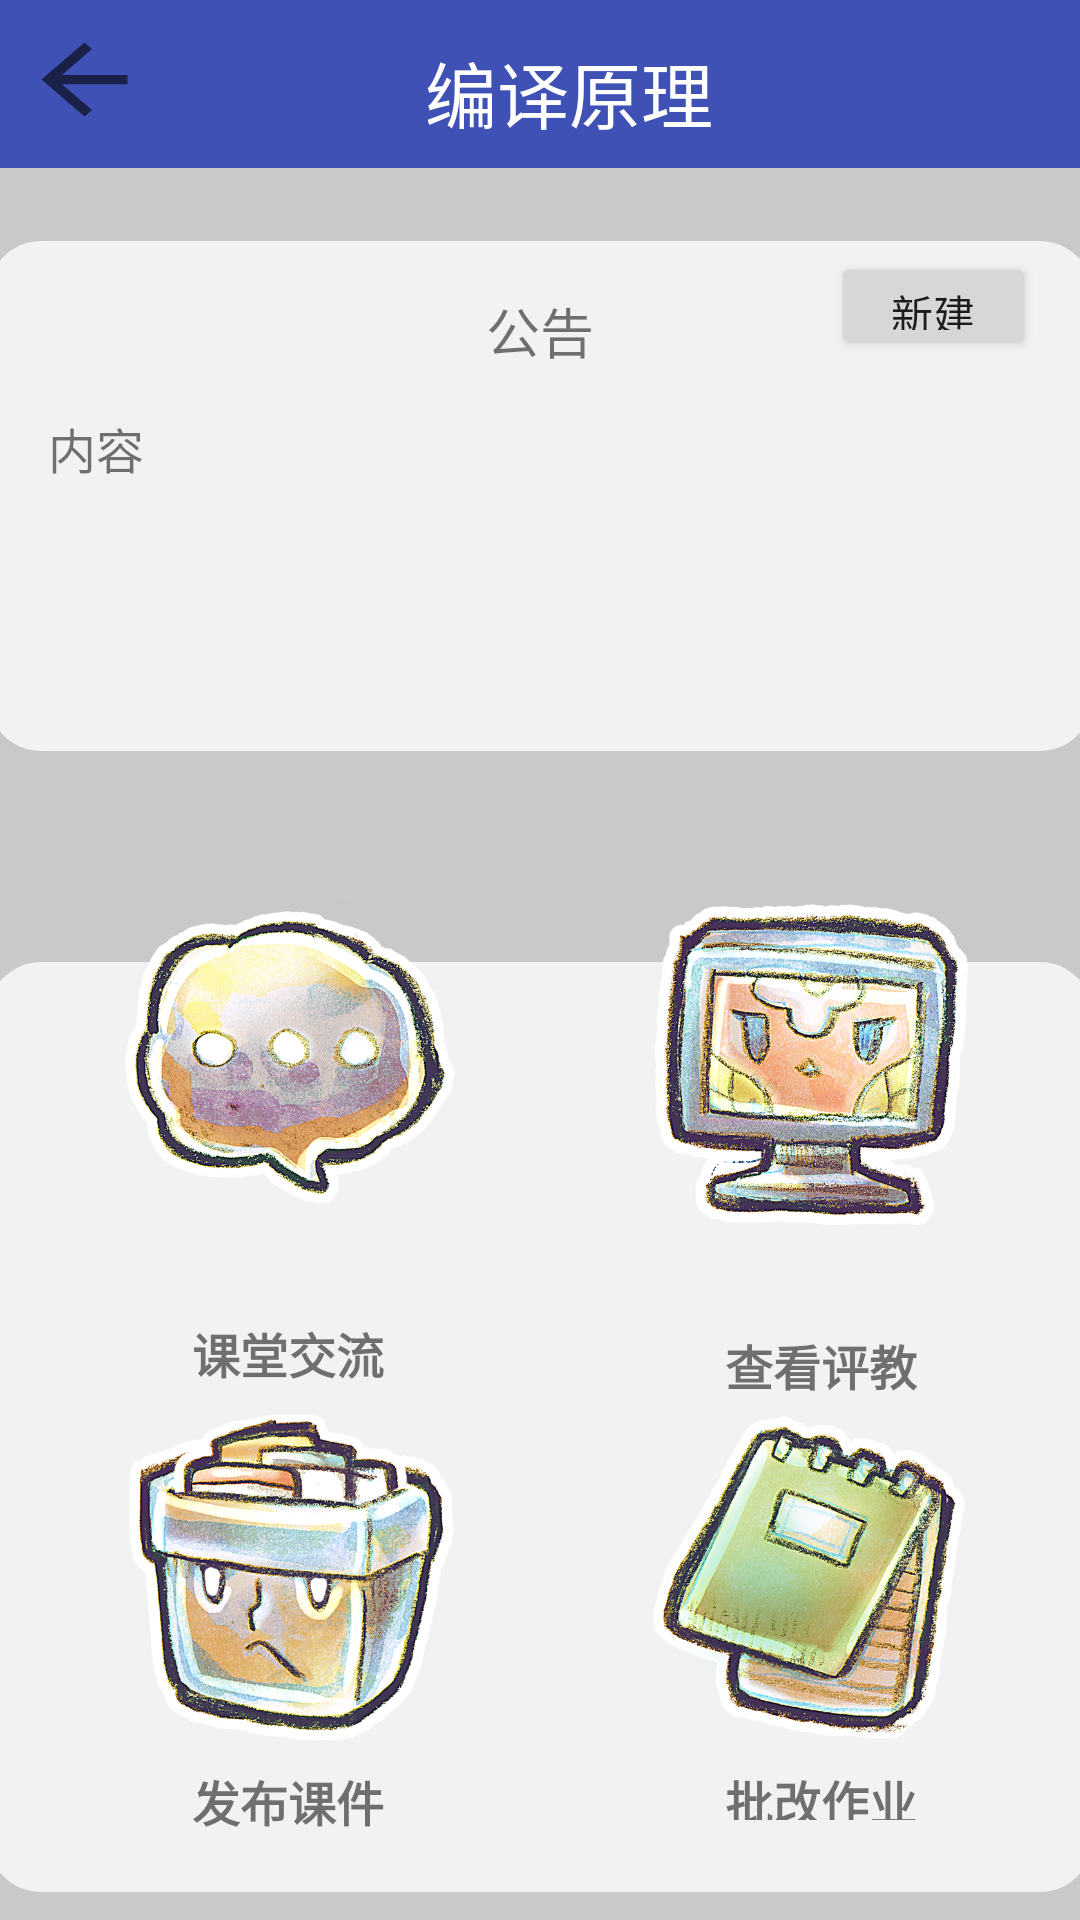

Where to tap for icons on this 1080px×1920px app screen, as (x,y):
communicate: (290,1057)
file: (291,1575)
